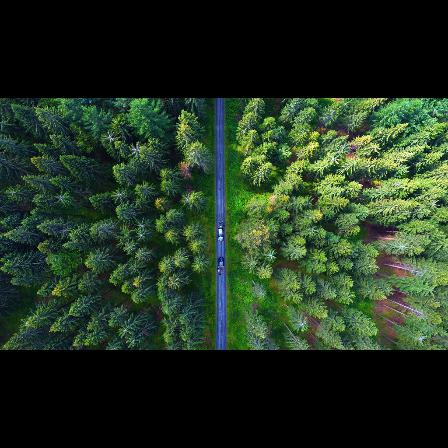Sick: (100, 126, 121, 148), (52, 189, 74, 206), (128, 139, 144, 159), (110, 188, 128, 205), (325, 151, 344, 166), (135, 215, 150, 233), (263, 246, 278, 264), (123, 239, 138, 255)
